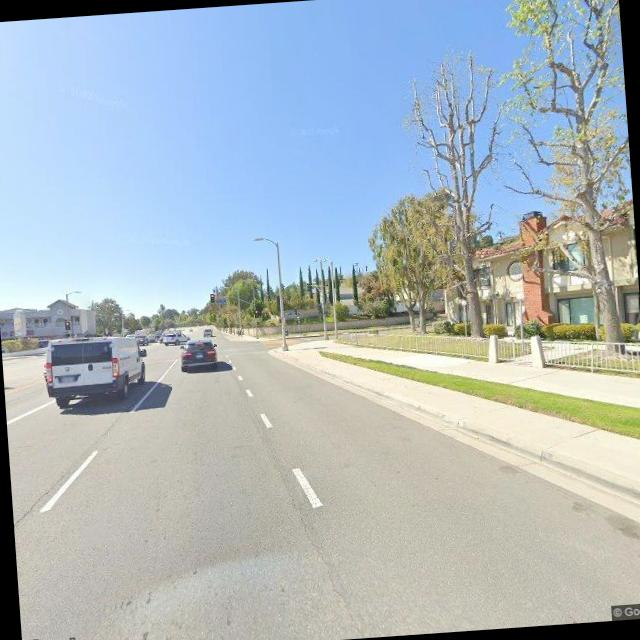pothole: (10, 469, 71, 557)
